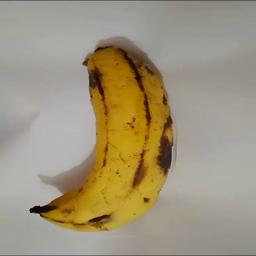Banana Semifresh: (30, 41, 183, 236)
